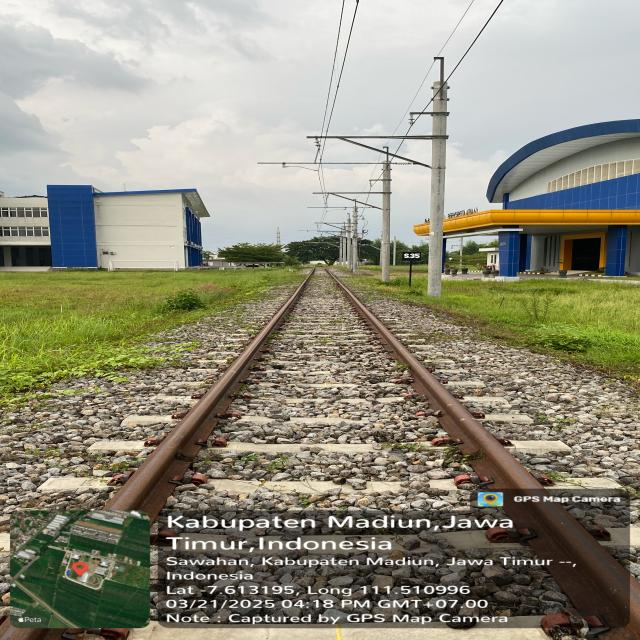rail-detection: (325, 268, 636, 626), (104, 267, 315, 520)
